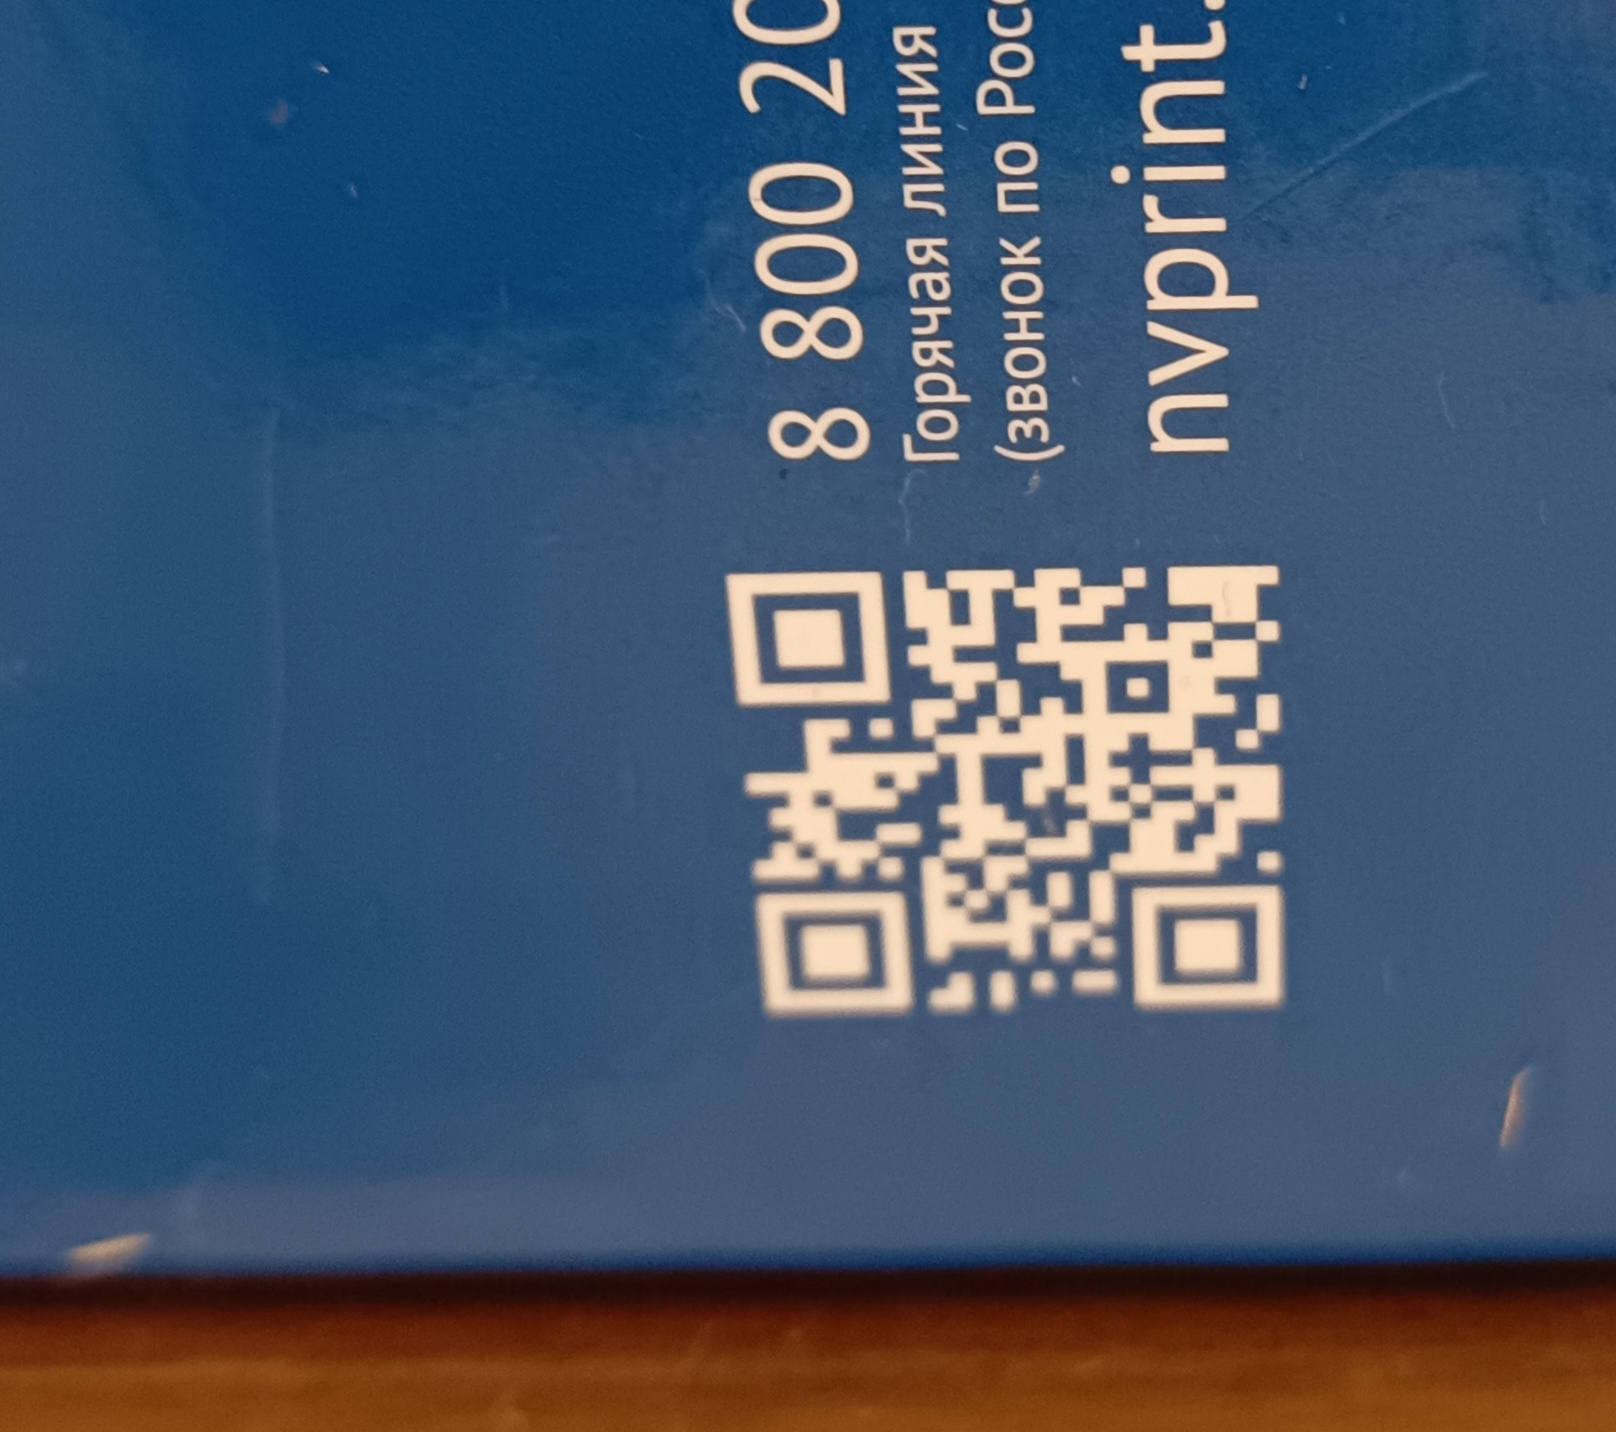2d: (726, 561, 1286, 1020)
